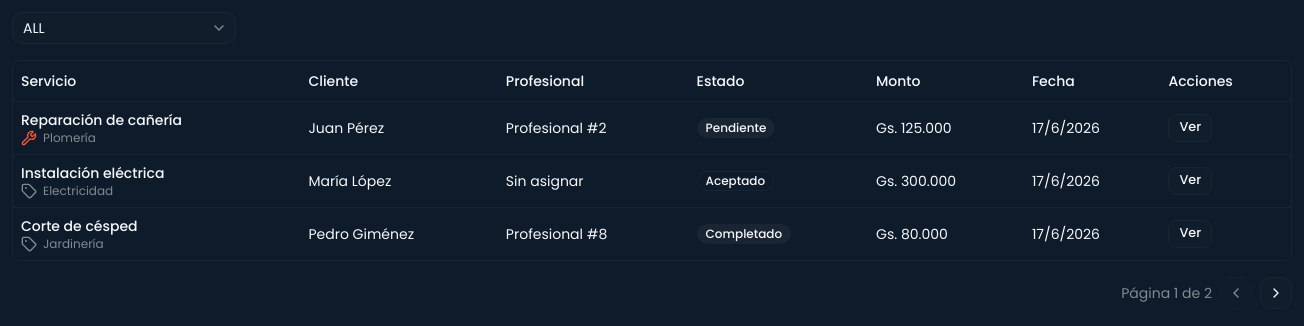
Test: ServicesTable › filtra los servicios por estado al elegir una opción del select
Expected: the text "Reparación de cañería" is shown, [21, 110, 182, 130]
Click the dropdown named "Filtrar por estado": [124, 28] box [12, 12, 236, 44]
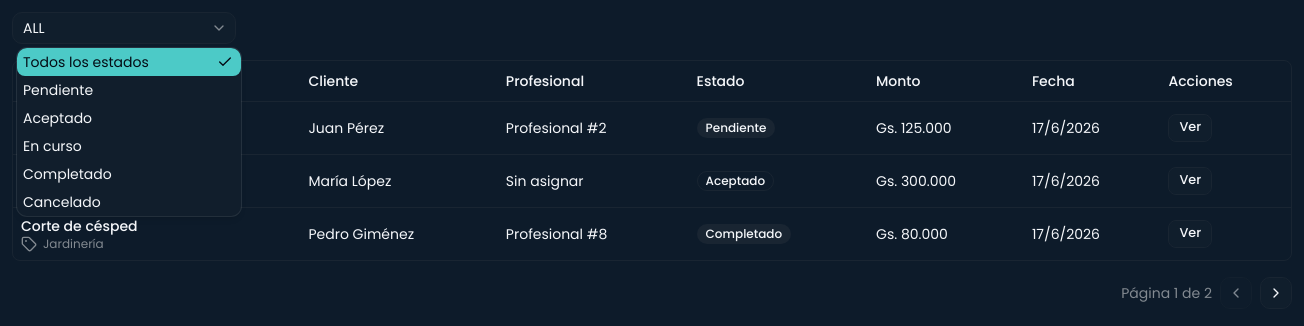
Click the option "Completado": [67, 174] box [23, 164, 112, 184]
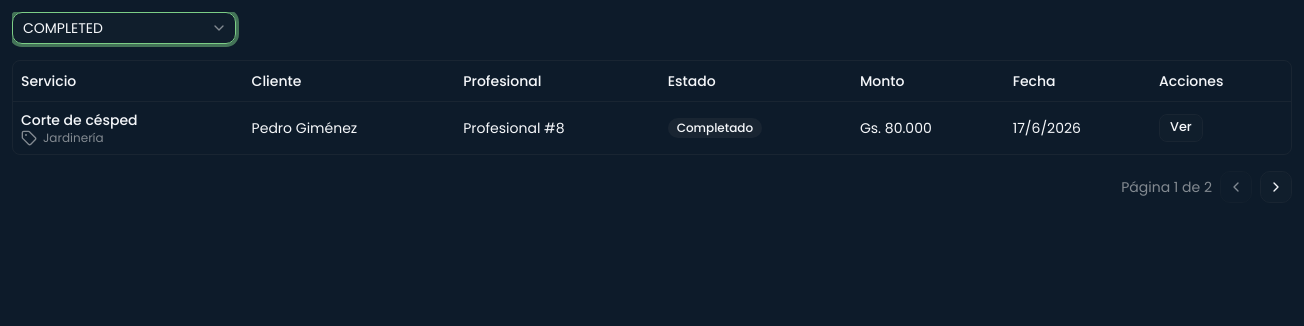
Expected: the text "Corte de césped" is shown, [21, 110, 138, 130]
Now the text "Reparación de cañería" is gone
